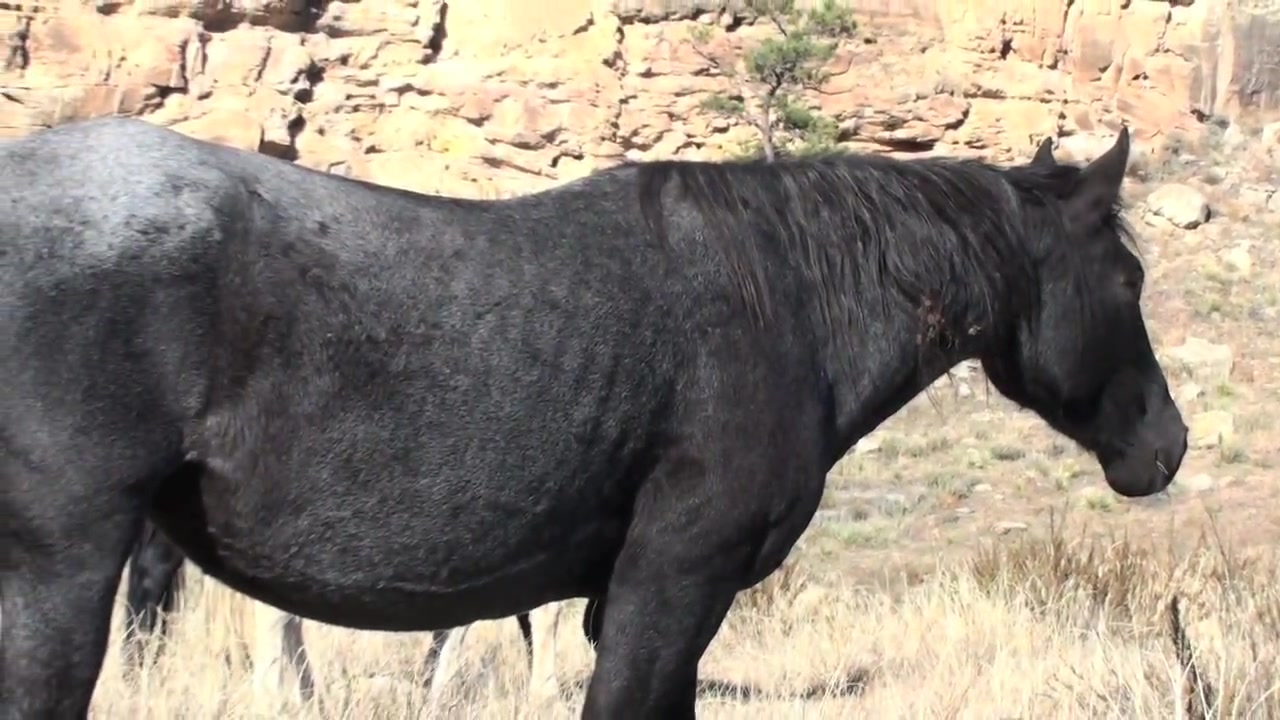horse: (1, 117, 1190, 720)
